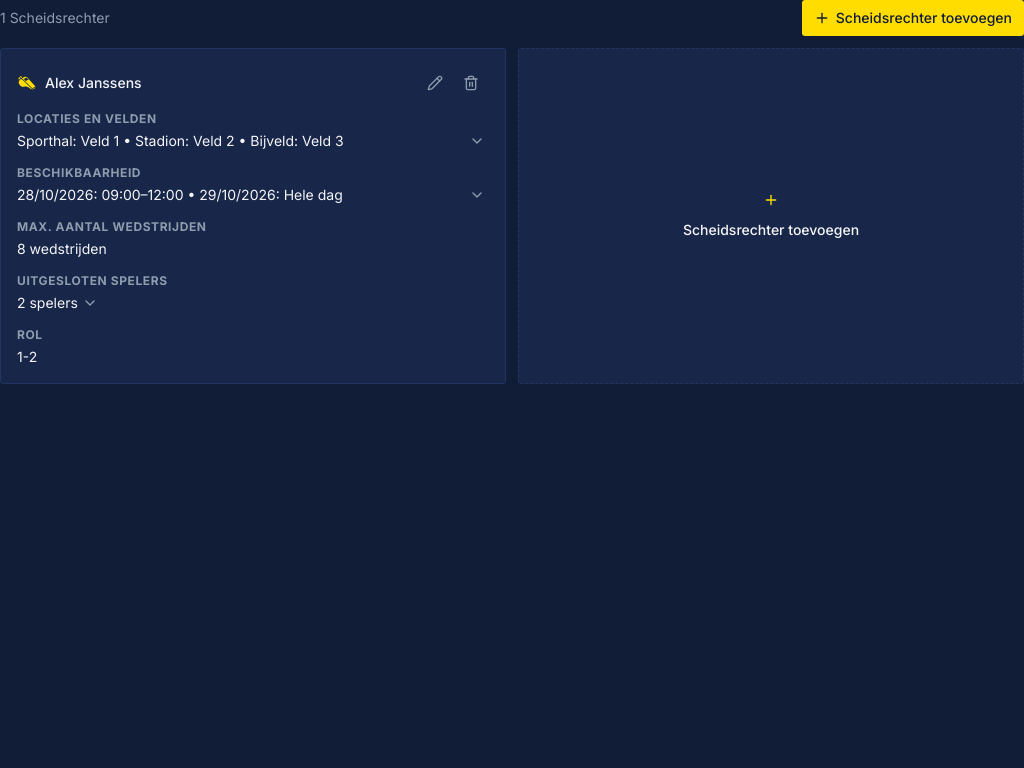
Test: Referee overview controls › labels the excluded section after the tournament participant kind
Check: the text "Uitgesloten spelers" is shown, box [17, 273, 168, 288]
Click the button with aria-label "Uitgesloten spelers van Alex Janssens" at (57, 303), box [17, 289, 98, 317]
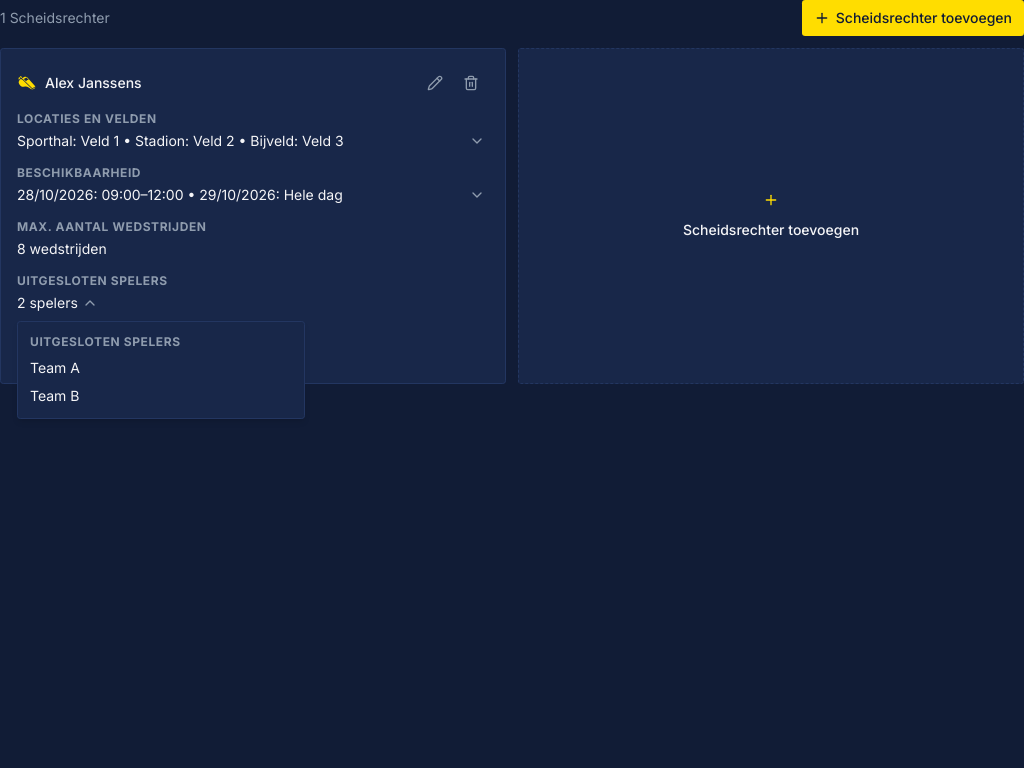
Check: the list item "Team B" is shown, box [30, 387, 80, 404]
